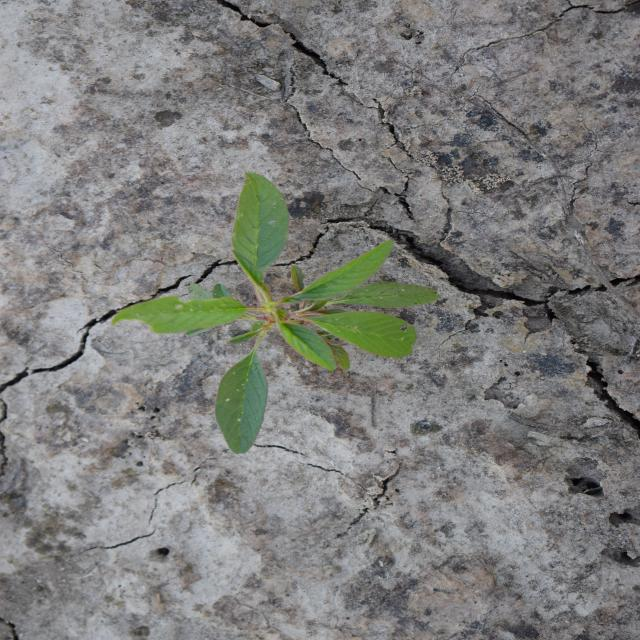Waterhemp: (107, 170, 443, 455)
